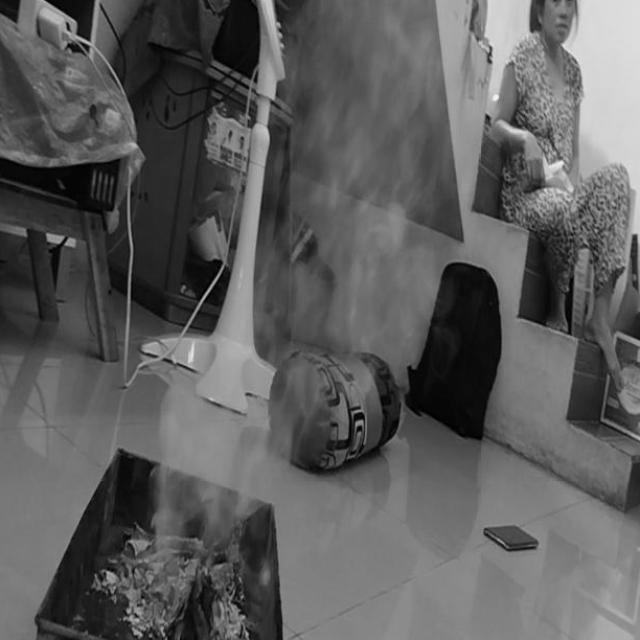fire: (302, 0, 436, 335), (154, 374, 262, 539)
